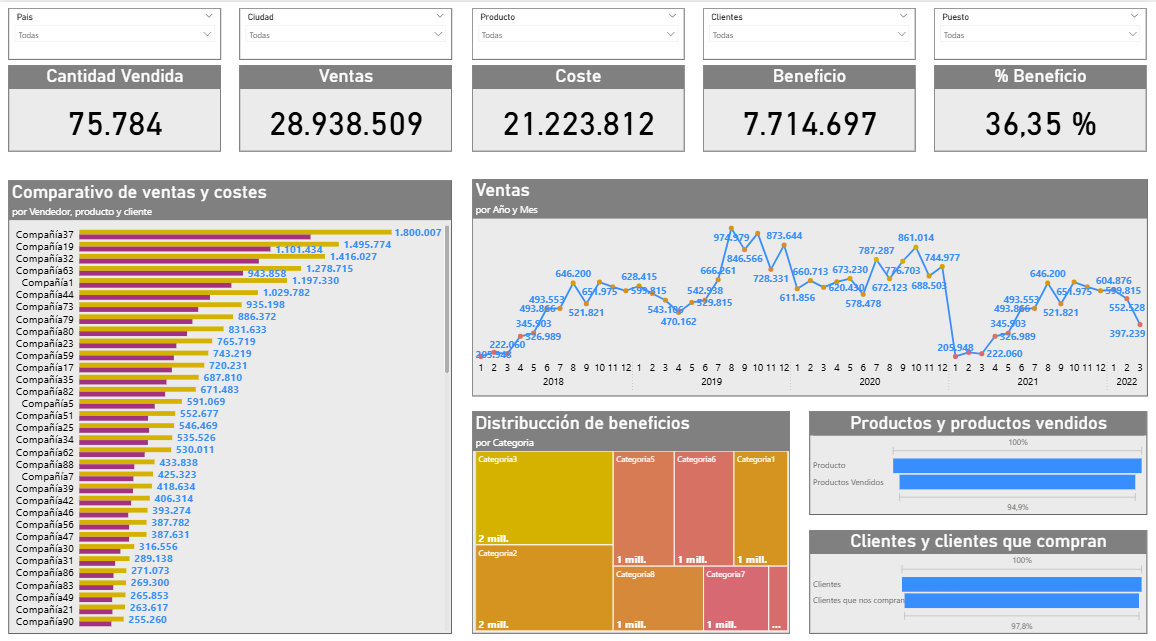

The dashboard page shown, as its layout file describes it:
{"tool":"powerbi","page":{"name":"Analisis","canvas":[1940,1080],"ordinal":1},"visuals":[{"type":"clusteredBarChart","title":"Comparativo de ventas y costes","fields":{"Category":["Productos.Productos.Nombre","Clientes.Clientes.Nombre","Vendedores.Vendedores.Nombre"],"Y":["Medidas.Ventas","Medidas.Coste"]},"box":[22,297,738.9,755.4],"z":0},{"type":"card","title":"Cantidad Vendida","fields":{"Values":["Medidas.Cantidad"]},"box":[21.6,105.8,353.8,143.7],"z":1000},{"type":"card","title":"Ventas","fields":{"Values":["Medidas.Ventas"]},"box":[407.7,105.8,353.8,143.7],"z":2000},{"type":"card","title":"Coste","fields":{"Values":["Medidas.Coste"]},"box":[793.9,105.8,353.8,143.7],"z":3000},{"type":"card","title":"Beneficio","fields":{"Values":["Medidas.Beneficio"]},"box":[1180,105.8,353.8,143.7],"z":4000},{"type":"card","title":"% Beneficio","fields":{"Values":["Medidas.% Beneficio"]},"box":[1566.2,105.8,353.8,143.7],"z":5000},{"type":"treemap","title":"Distribucción de beneficios","fields":{"Group":["Productos.Productos.Categoria_ID"],"Values":["Medidas.Beneficio"]},"box":[795,682.5,530,370],"z":6000},{"type":"funnel","title":"Productos y productos vendidos","fields":{"Y":["Medidas.Producto","Medidas.Productos Vendidos"]},"box":[1357.4,681.3,562.6,172],"z":7000},{"type":"lineChart","title":"Ventas","fields":{"Y":["Medidas.Ventas"],"Category":["Calendario.Año","Calendario.Mes"]},"box":[794.6,295.6,1126.1,362.3],"z":8000},{"type":"slicer","fields":{"Values":["Clientes.Clientes.Pais"]},"box":[21.9,9.1,354.1,85.8],"z":9000},{"type":"slicer","fields":{"Values":["Clientes.Clientes.Ciudad"]},"box":[407,9.1,354.1,85.8],"z":10000},{"type":"slicer","fields":{"Values":["Productos.Productos.Producto_ID"]},"box":[793.9,9.1,354.1,85.8],"z":11000},{"type":"slicer","fields":{"Values":["Clientes.Clientes.Nombre"]},"box":[1180.8,9.1,354.1,85.8],"z":12000},{"type":"slicer","fields":{"Values":["Vendedores.Vendedores.Puesto"]},"box":[1565.9,9.1,354.1,85.8],"z":13000},{"type":"funnel","title":"Clientes y clientes que compran","fields":{"Y":["Medidas.Clientes","Medidas.Clientes que nos compran"]},"box":[1357.5,880,562.5,172.5],"z":14000}]}

Visuals, with their boxes in screenshot pixels (x1, y1, x2, y2), scaled from the page's 1940x1080 canvas onto the 1156x641 screenshot:
"Comparativo de ventas y costes" clusteredBarChart: x1=13 y1=176 x2=453 y2=625
"Cantidad Vendida" card: x1=13 y1=63 x2=224 y2=148
"Ventas" card: x1=243 y1=63 x2=454 y2=148
"Coste" card: x1=473 y1=63 x2=684 y2=148
"Beneficio" card: x1=703 y1=63 x2=914 y2=148
"% Beneficio" card: x1=933 y1=63 x2=1144 y2=148
"Distribucción de beneficios" treemap: x1=474 y1=405 x2=790 y2=625
"Productos y productos vendidos" funnel: x1=809 y1=404 x2=1144 y2=506
"Ventas" lineChart: x1=473 y1=175 x2=1144 y2=390
slicer - Clientes.Clientes.Pais: x1=13 y1=5 x2=224 y2=56
slicer - Clientes.Clientes.Ciudad: x1=243 y1=5 x2=454 y2=56
slicer - Productos.Productos.Producto_ID: x1=473 y1=5 x2=684 y2=56
slicer - Clientes.Clientes.Nombre: x1=704 y1=5 x2=915 y2=56
slicer - Vendedores.Vendedores.Puesto: x1=933 y1=5 x2=1144 y2=56
"Clientes y clientes que compran" funnel: x1=809 y1=522 x2=1144 y2=625
